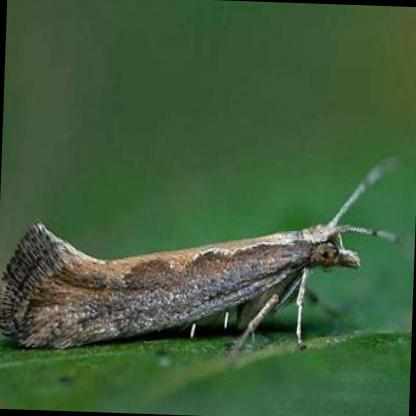plutella: (0, 151, 412, 367)
